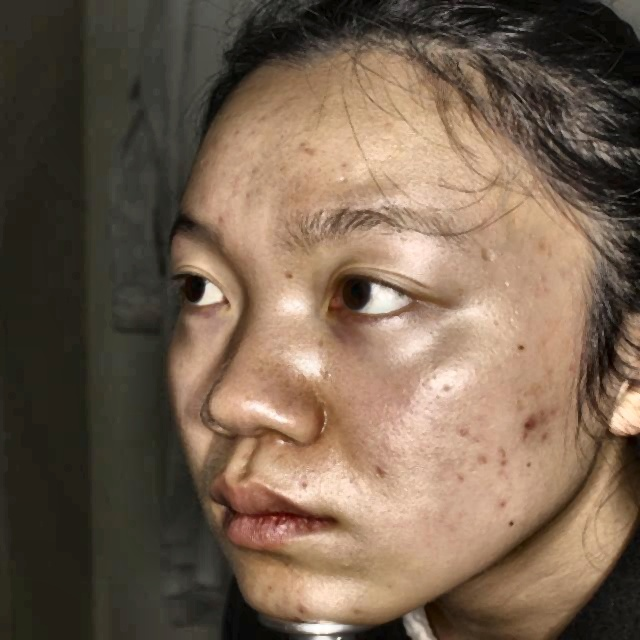pustule: (514, 407, 558, 431), (468, 440, 491, 470), (495, 439, 522, 464), (490, 492, 516, 516), (289, 598, 312, 620), (557, 358, 583, 376)
